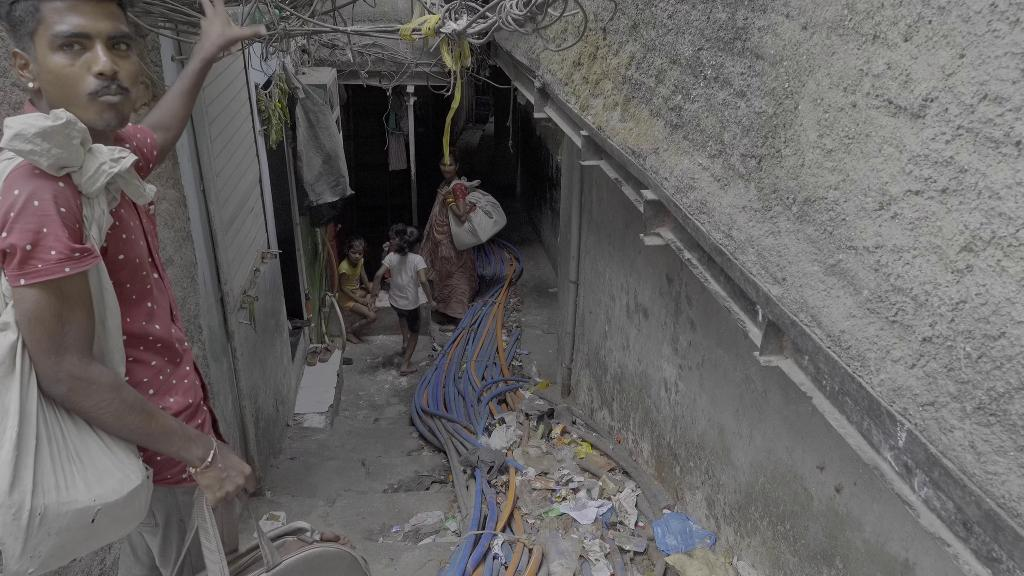garbage: (649, 504, 723, 555), (557, 472, 613, 526), (611, 480, 640, 530), (490, 423, 522, 450), (551, 422, 570, 446), (442, 519, 460, 532)
